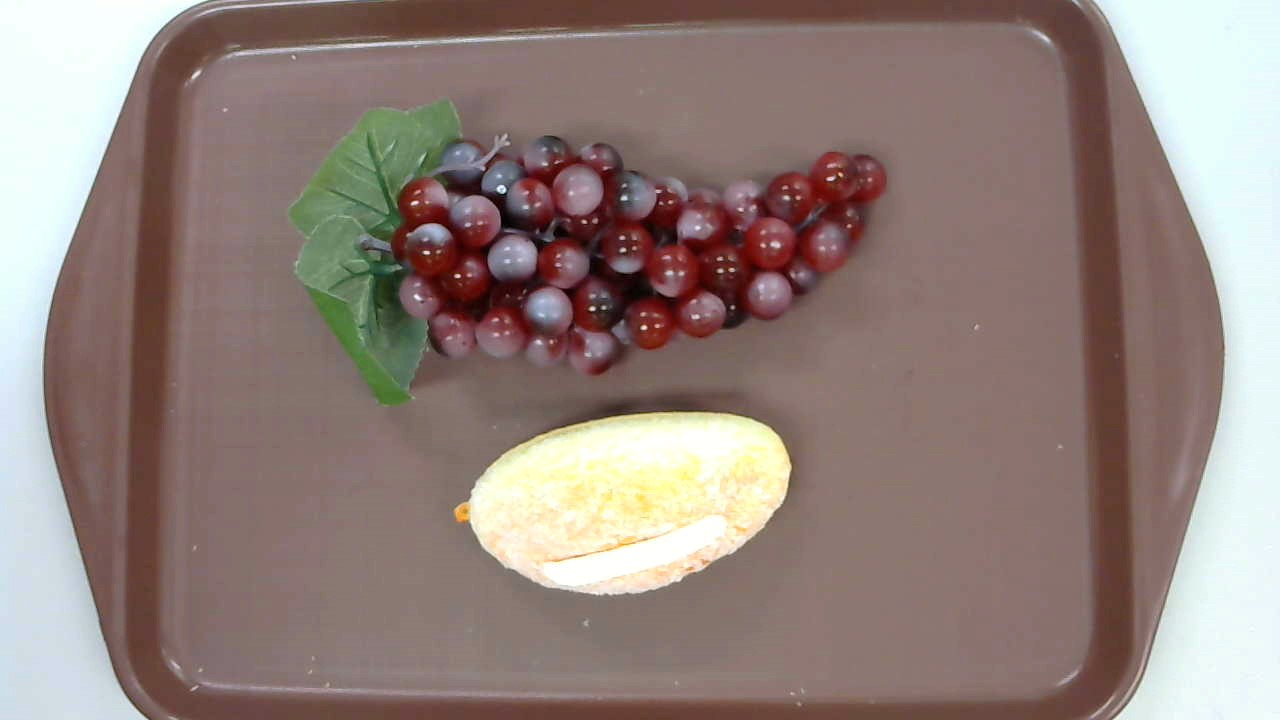coconut: (452, 412, 792, 598)
grape: (285, 98, 888, 404)
